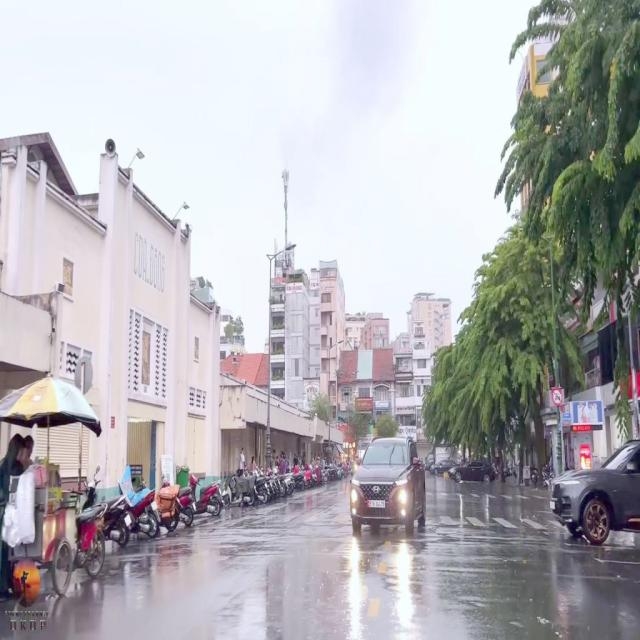cam_o_to: (550, 387, 562, 406)
